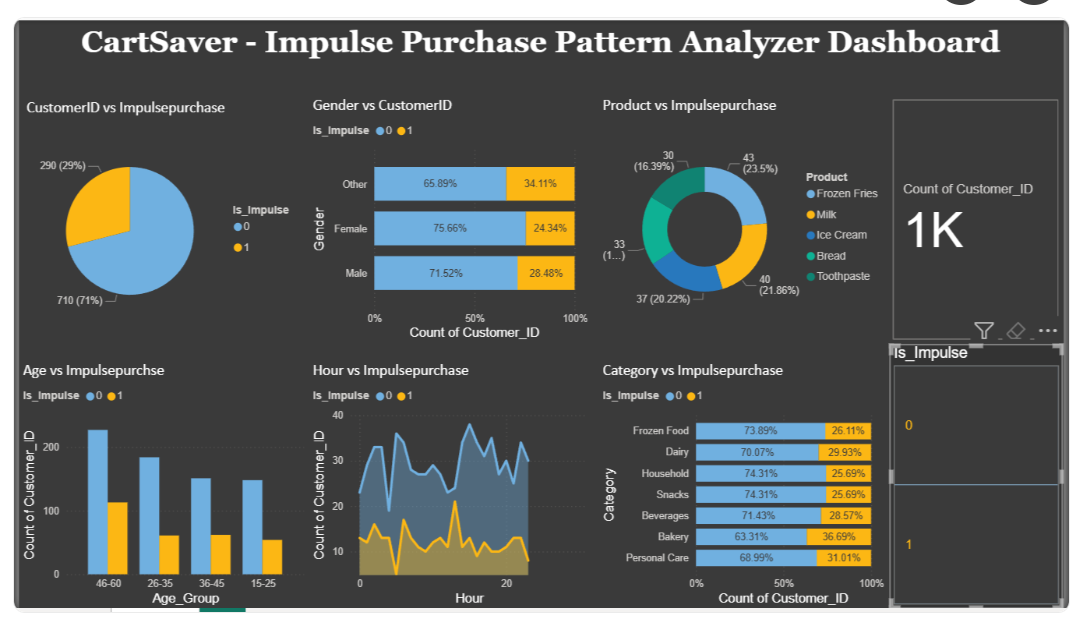

Layout of this report page (visuals, bound fields, positions):
{"tool":"powerbi","page":{"name":"Page 1","canvas":[1280,720],"ordinal":0},"visuals":[{"type":"textbox","box":[0,0,1279.2,92.3],"z":0},{"type":"pieChart","title":"CustomerID vs Impulsepurchase","fields":{"Category":["CartSaver_Cleaned.Is_Impulse"],"Y":["CountNonNull(CartSaver_Cleaned.Customer_ID)"]},"box":[4.9,93.9,349.8,302.8],"z":1},{"type":"hundredPercentStackedBarChart","title":"Gender vs CustomerID","fields":{"Category":["CartSaver_Cleaned.Gender"],"Y":["CountNonNull(CartSaver_Cleaned.Customer_ID)"],"Series":["CartSaver_Cleaned.Is_Impulse"]},"box":[354.6,92.3,346.5,304.4],"z":2},{"type":"stackedAreaChart","title":"Age vs Impulsepurchse","fields":{"Category":["CartSaver_Cleaned.Age_Group"],"Y":["CountNonNull(CartSaver_Cleaned.Customer_ID)"],"Series":["CartSaver_Cleaned.Is_Impulse"]},"box":[0,416.1,354.6,304.4],"z":3},{"type":"lineChart","title":"Hour vs Impulsepurchase","fields":{"Category":["CartSaver_Cleaned.Hour"],"Y":["CountNonNull(CartSaver_Cleaned.Customer_ID)"],"Series":["CartSaver_Cleaned.Is_Impulse"]},"box":[354.6,416.1,346.5,304.4],"z":4},{"type":"donutChart","title":"Product vs Impulsepurchase","fields":{"Category":["CartSaver_Cleaned.Product"],"Y":["CountNonNull(CartSaver_Cleaned.Customer_ID)"],"Series":["CartSaver_Cleaned.Is_Impulse"]},"box":[710.8,92.3,356.2,304.4],"z":5},{"type":"hundredPercentStackedBarChart","title":"Category vs Impulsepurchase","fields":{"Category":["CartSaver_Cleaned.Category"],"Y":["CountNonNull(CartSaver_Cleaned.Customer_ID)"],"Series":["CartSaver_Cleaned.Is_Impulse"]},"box":[710.8,416.1,354.6,304.4],"z":6},{"type":"cardVisual","fields":{"Data":["CountNonNull(CartSaver_Cleaned.Customer_ID)"]},"box":[1065.5,92.3,213.7,304.4],"z":7},{"type":"advancedSlicerVisual","fields":{"Values":["CartSaver_Cleaned.Is_Impulse"]},"box":[1067.1,396.7,212.1,323.8],"z":8}]}

Visuals, with their boxes on the page's 1280x720 design canvas (x1, y1, x2, y2). These are canvas units, not pixel positions in the 1076x632 screenshot, which may show the page scaled, cropped or inside an application window:
textbox: box=[0, 0, 1279, 92]
"CustomerID vs Impulsepurchase" pieChart: box=[5, 94, 355, 397]
"Gender vs CustomerID" hundredPercentStackedBarChart: box=[355, 92, 701, 397]
"Age vs Impulsepurchse" stackedAreaChart: box=[0, 416, 355, 720]
"Hour vs Impulsepurchase" lineChart: box=[355, 416, 701, 720]
"Product vs Impulsepurchase" donutChart: box=[711, 92, 1067, 397]
"Category vs Impulsepurchase" hundredPercentStackedBarChart: box=[711, 416, 1065, 720]
cardVisual - CountNonNull(CartSaver_Cleaned.Customer_ID): box=[1066, 92, 1279, 397]
advancedSlicerVisual - CartSaver_Cleaned.Is_Impulse: box=[1067, 397, 1279, 720]
